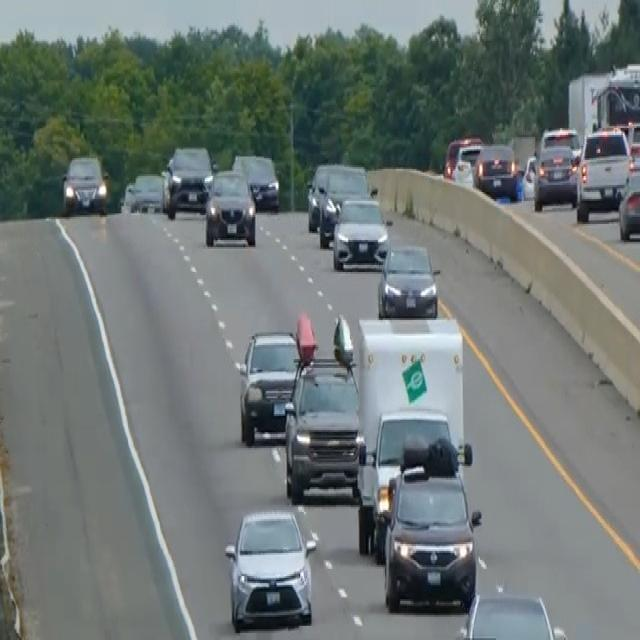car: (223, 505, 317, 631), (283, 354, 361, 503), (237, 326, 301, 444), (458, 588, 567, 638), (575, 124, 630, 220), (306, 160, 370, 236), (377, 240, 439, 318), (331, 194, 390, 270), (204, 167, 257, 247), (163, 142, 214, 217), (533, 140, 578, 210), (231, 151, 280, 212), (61, 153, 107, 215), (473, 141, 518, 199), (443, 134, 483, 182), (123, 171, 164, 213), (539, 125, 581, 164), (617, 169, 639, 240), (520, 153, 537, 199)
minivan: (380, 434, 482, 613)
truck: (352, 313, 467, 558)
